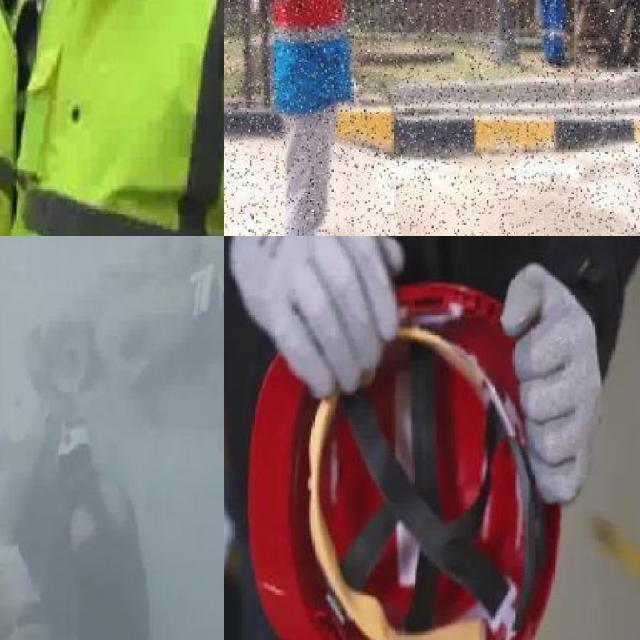apron: (235, 236, 406, 401), (499, 255, 604, 512)
